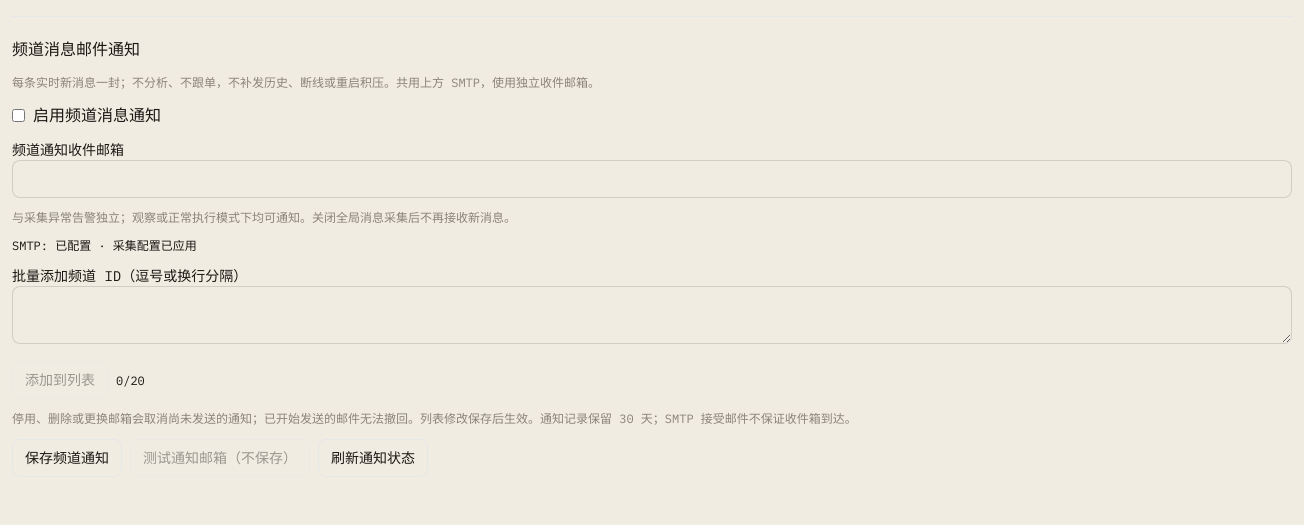
Test case: tests draft recipient without saving or enabling notification
Expected: the button "保存频道通知" is enabled, x1=12 y1=439 x2=122 y2=477
Type "test@example.com" into the field labelled "频道通知收件邮箱" at [652, 179], box x1=12 y1=160 x2=1292 y2=198
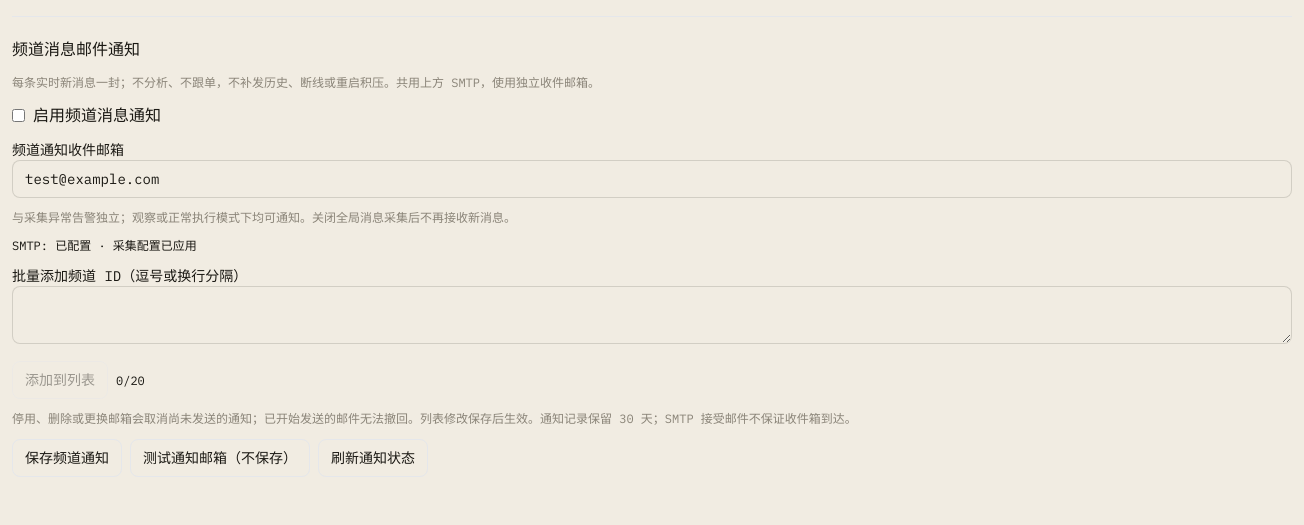
Click the button "测试通知邮箱（不保存）" at [220, 458], box x1=130 y1=439 x2=310 y2=477
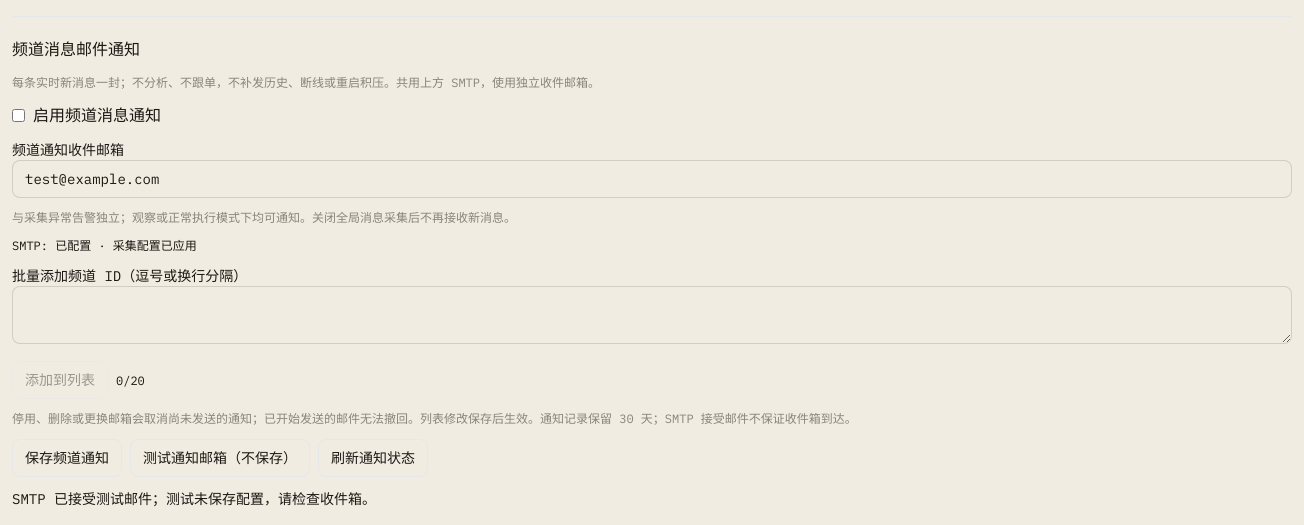
Now the text "SMTP 已接受测试邮件；测试未保存配置，请检查收件箱。" is shown, box x1=12 y1=490 x2=376 y2=508
